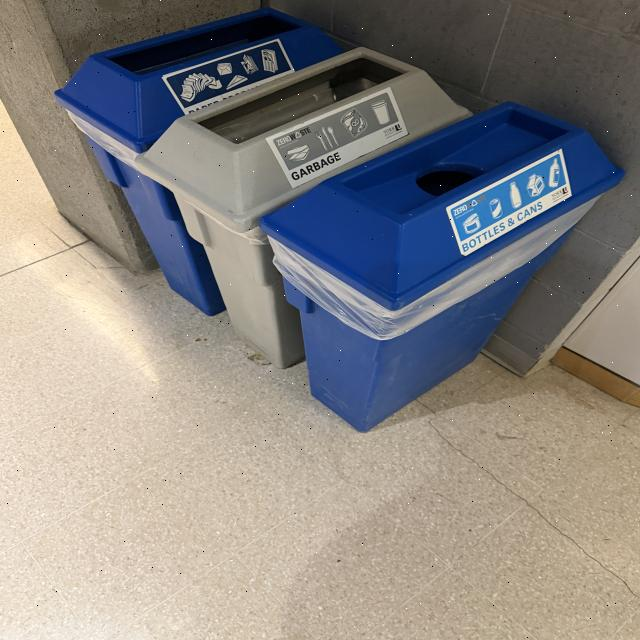Dustbin: (53, 5, 624, 434)
